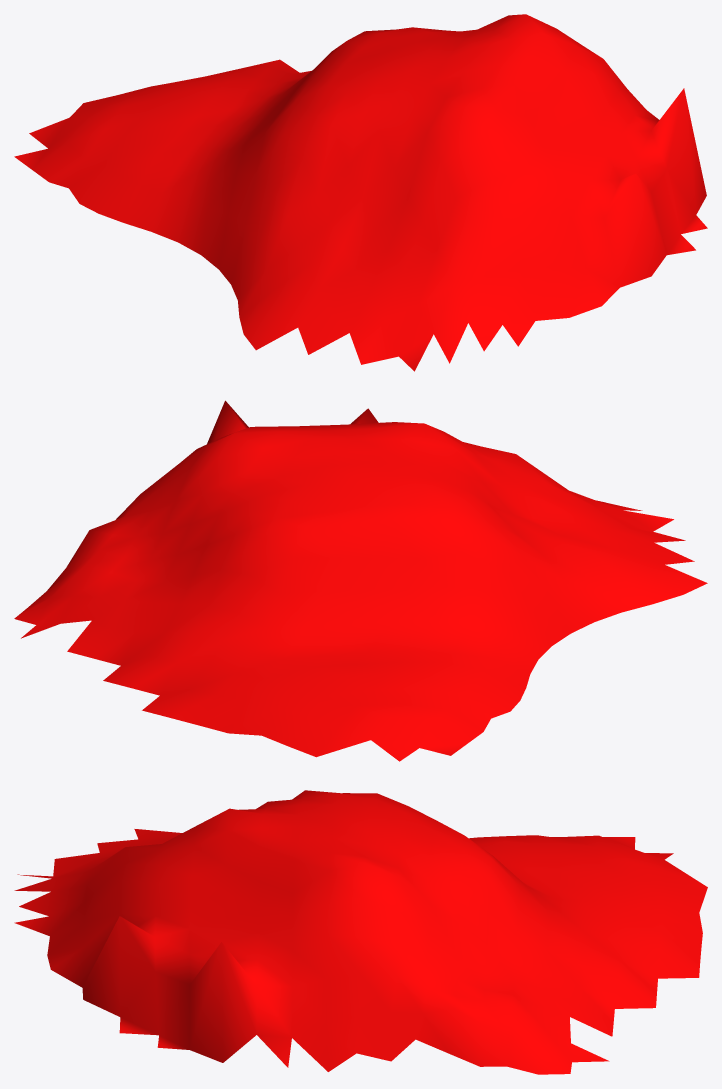
Rendered from BackIsland1Shape.dae.
The picture shows the model from 3 angles, top to bottom: view 1: azimuth 30°, elevation 25°; view 2: azimuth 150°, elevation 25°; view 3: azimuth 270°, elevation 25°; orthographic projection. The views are drawn at different scales.
Parts seen in each view (by area): view 1: BackIsland1; view 2: BackIsland1; view 3: BackIsland1.
Boxes of the visible parts, x1,y1,x2,y2 form: BackIsland1: [14, 14, 707, 371]; BackIsland1: [14, 400, 707, 761]; BackIsland1: [14, 790, 707, 1074].
Size of the model in its own units: 312 by 87.85 by 372.
